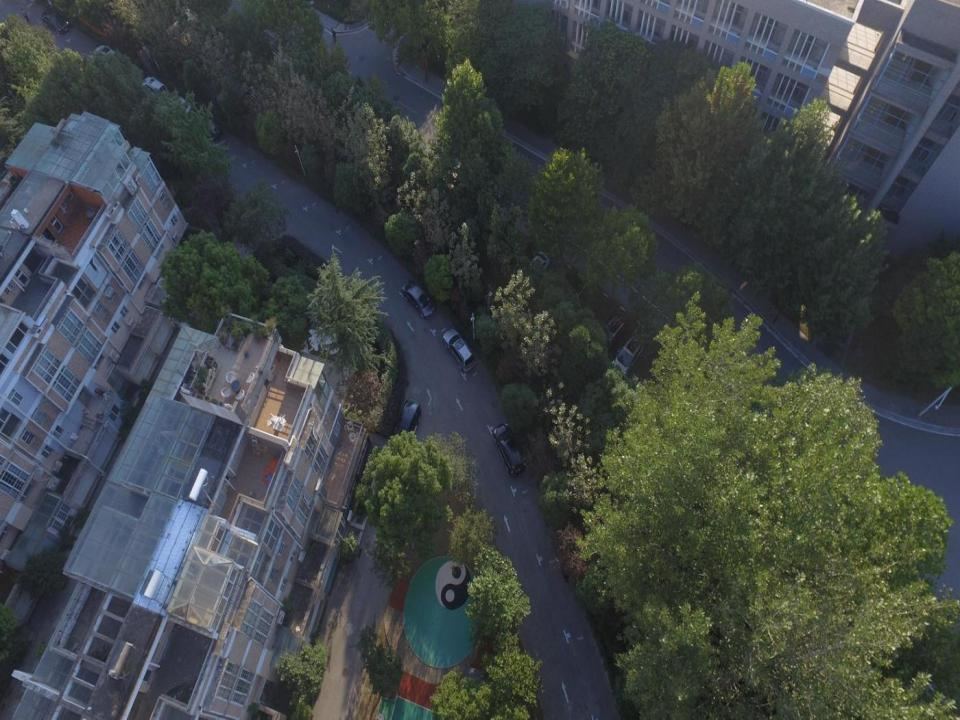car: (493, 422, 526, 476), (612, 334, 646, 384), (441, 327, 476, 373), (391, 398, 422, 449), (400, 278, 436, 319), (523, 250, 549, 294), (598, 315, 625, 357), (140, 76, 168, 103), (40, 8, 69, 34), (198, 109, 222, 140), (93, 44, 120, 68), (172, 95, 194, 122)
